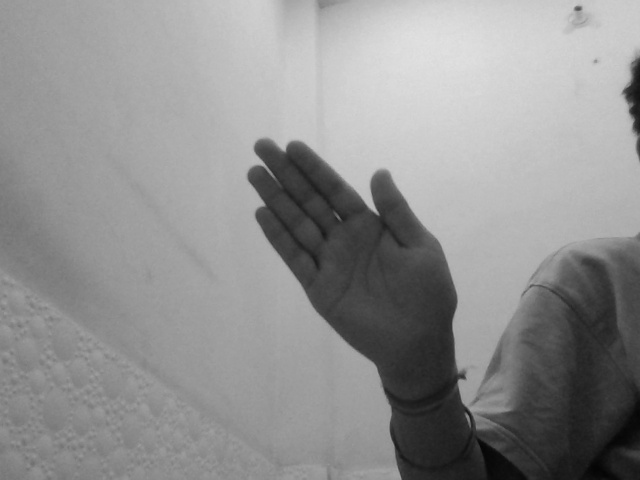Hello: (244, 133, 458, 364)
